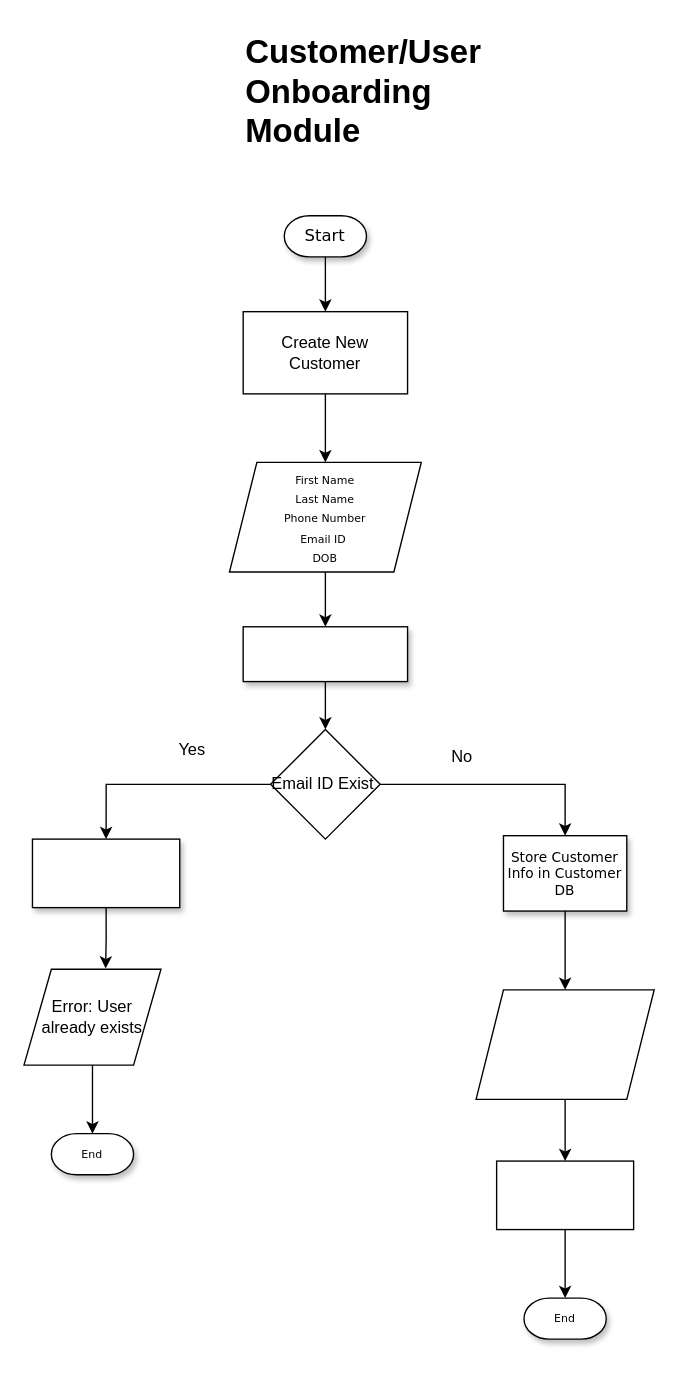
Some shapes in this 678 by 1373 pixel diagram are drawn without their labels. Here are the shapes that lost their labels. From the top down, the centre of each, then its label:
(x=326, y=655): Validate All Fields
(x=107, y=874): Redirect to Login Page
(x=564, y=1043): Adddress ID Address Type Address Line City/State/Country Zip Code
(x=564, y=1195): Store Address in Address DB
